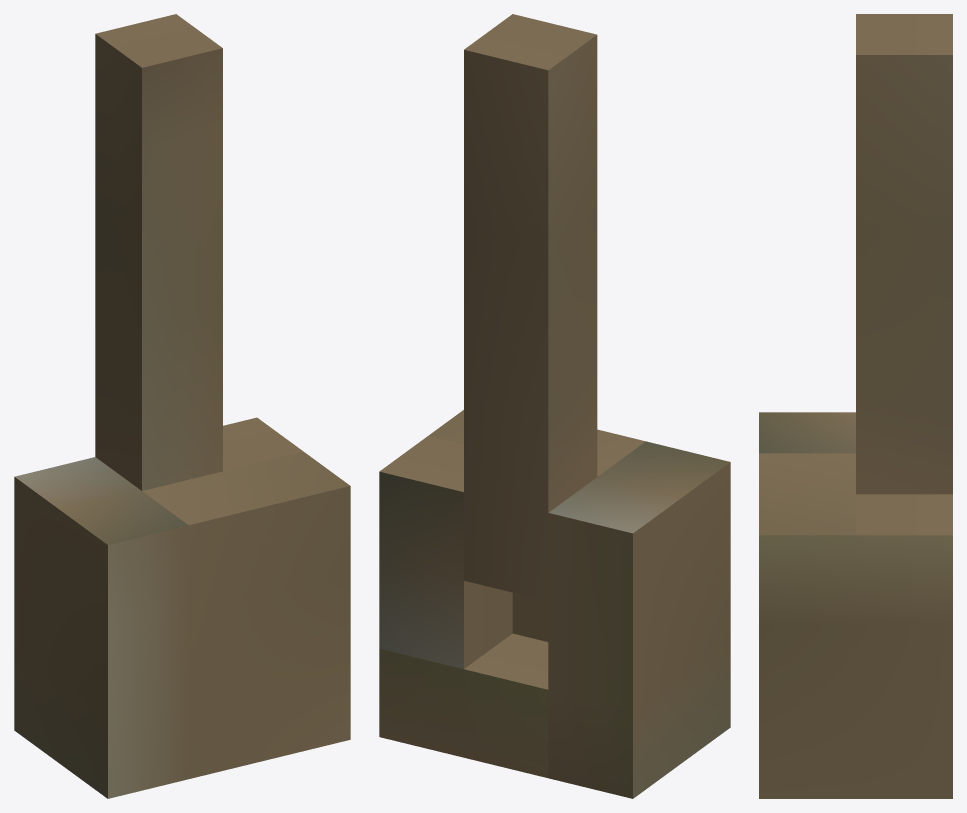
Rendered from SoupLadle_B_00.obj.
3 renders of one model, left to right at view 1: azimuth 30°, elevation 25°; view 2: azimuth 150°, elevation 25°; view 3: azimuth 270°, elevation 25°, orthographic. The views are drawn at different scales.
Parts seen in each view (by area): view 1: SoupLadle_B_00; view 2: SoupLadle_B_00; view 3: SoupLadle_B_00.
Part boxes in pixels (x1=…): SoupLadle_B_00: x1=14, y1=14, x2=350, y2=798; SoupLadle_B_00: x1=379, y1=14, x2=730, y2=798; SoupLadle_B_00: x1=759, y1=14, x2=952, y2=798.
Size of the model in its own units: 0.15 by 0.4 by 0.1.
